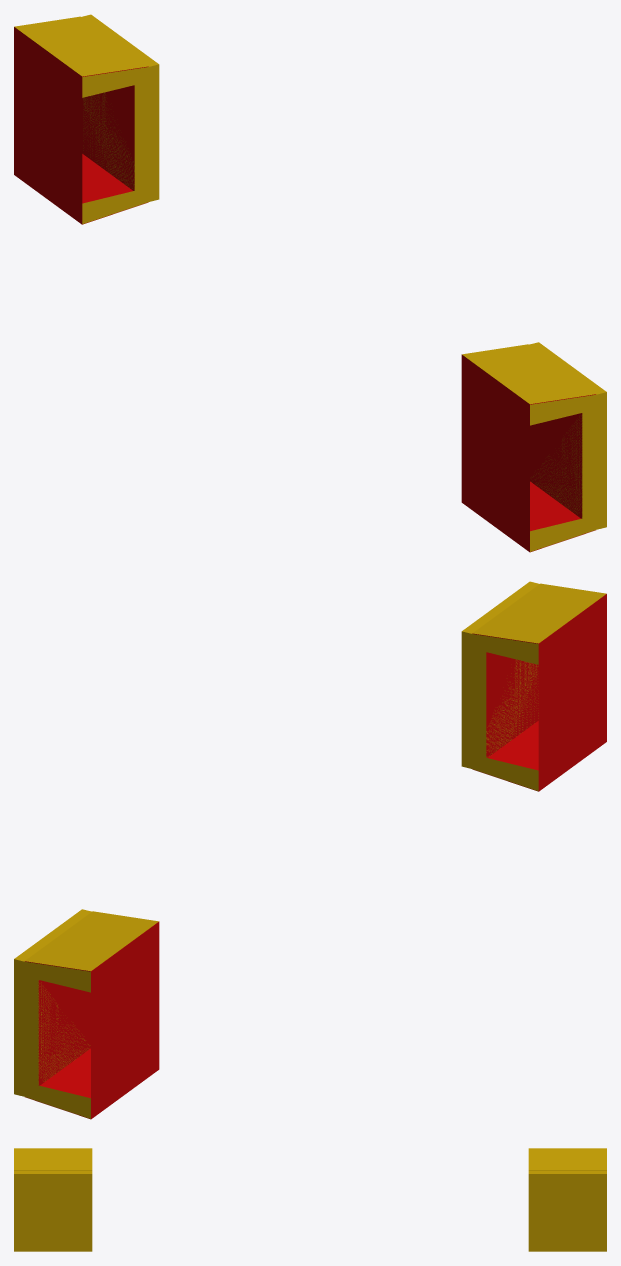
The model's file is main_car_lamp.obj.
3 views of the same model, one above another, from view 1: azimuth 30°, elevation 25°; view 2: azimuth 150°, elevation 25°; view 3: azimuth 270°, elevation 25° (orthographic). The views are drawn at different scales.
Parts seen in each view (by area): view 1: Cube.226_Cube.009; view 2: Cube.226_Cube.009; view 3: Cube.226_Cube.009.
Part boxes in pixels (box(x1,y1,x2,y2)): Cube.226_Cube.009: box(14, 14, 606, 552); Cube.226_Cube.009: box(14, 581, 606, 1119); Cube.226_Cube.009: box(14, 1148, 606, 1251).
Size of the model in its own units: 0.1271 by 0.2334 by 1.47.
